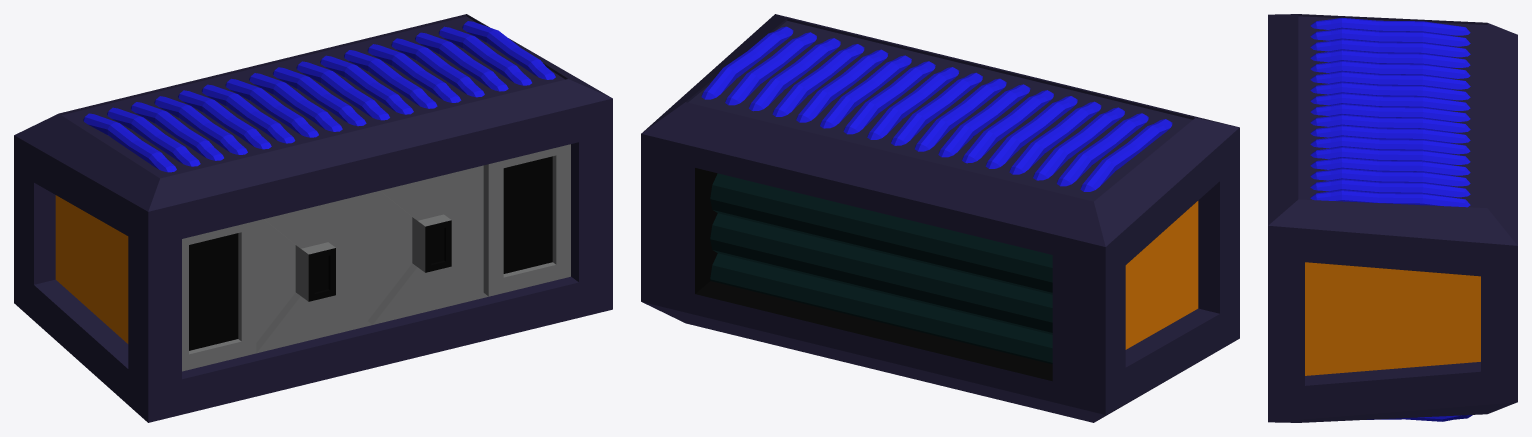
File: CoolerBody.glb
3 views of the same model, side by side, from view 1: azimuth 30°, elevation 25°; view 2: azimuth 150°, elevation 25°; view 3: azimuth 270°, elevation 25° (orthographic). The views are drawn at different scales.
Visible parts, largest first — view 1: Cooler, Cylinder; view 2: Cooler, Cylinder.002, Cylinder; view 3: Cooler, Cylinder, Cylinder.001.
Part boxes in pixels (x1,y1,x2,y2): Cooler: (14,14,612,422); Cylinder: (83,21,555,172); Cooler: (641,14,1239,422); Cylinder.002: (710,173,1052,364); Cylinder: (701,26,1172,191); Cooler: (1268,14,1517,422); Cylinder: (1310,18,1470,207); Cylinder.001: (1367,415,1472,421).
Size of the model in its own units: 1 by 0.5084 by 0.5.
